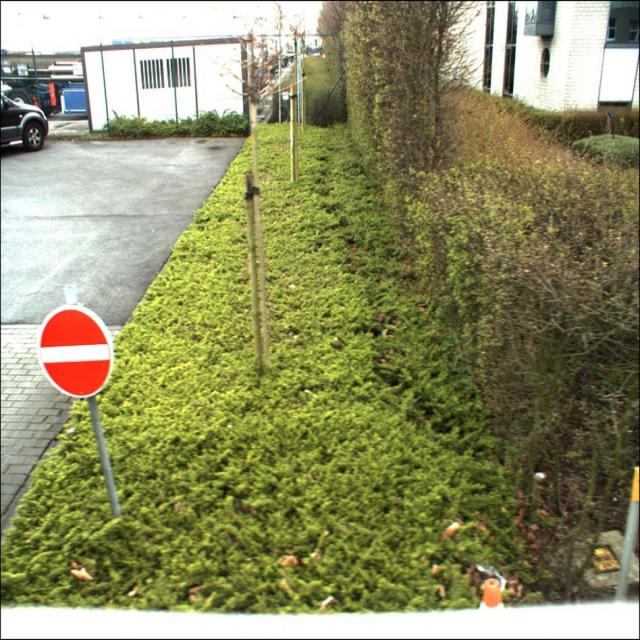girisyok: (37, 305, 113, 398)
